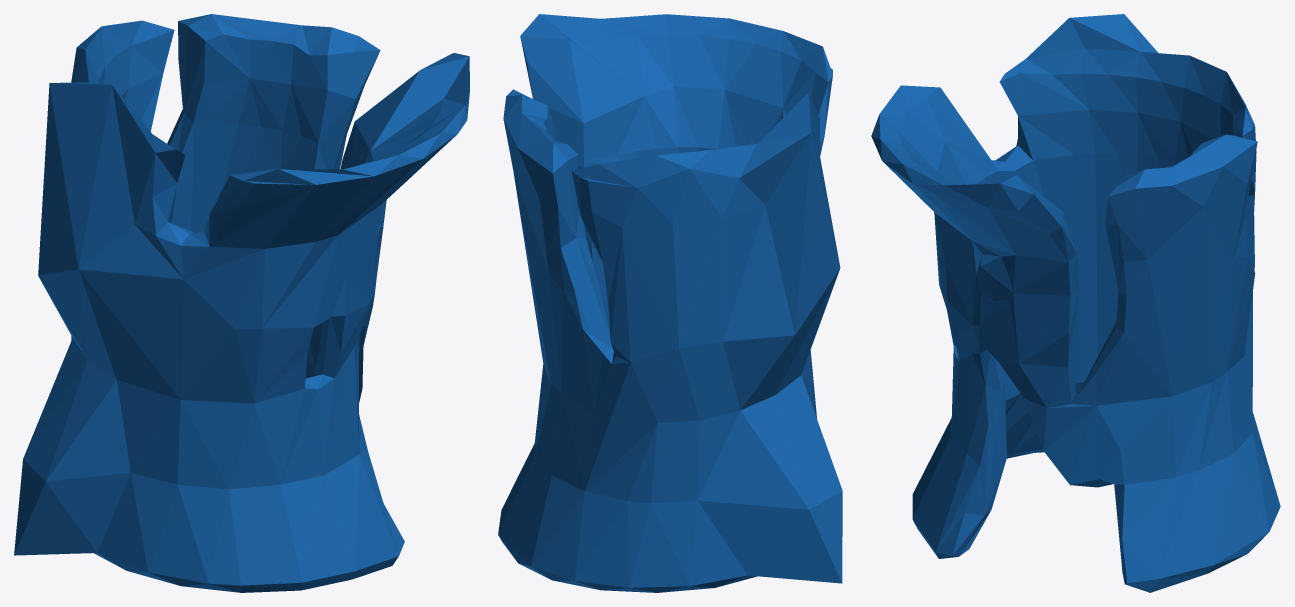
The model's file is SM_TreeStomp_V2.FBX.
3 views of the same model, side by side, from view 1: azimuth 30°, elevation 25°; view 2: azimuth 150°, elevation 25°; view 3: azimuth 270°, elevation 25° (orthographic). The views are drawn at different scales.
Parts seen in each view (by area): view 1: RottingLog; view 2: RottingLog; view 3: RottingLog.
Part boxes in pixels (x1,y1,x2,y2): RottingLog: (14, 14, 469, 592); RottingLog: (498, 14, 842, 592); RottingLog: (871, 14, 1280, 592).
Bounding box in the file's own units: 44.05 × 52.44 × 43.17.
